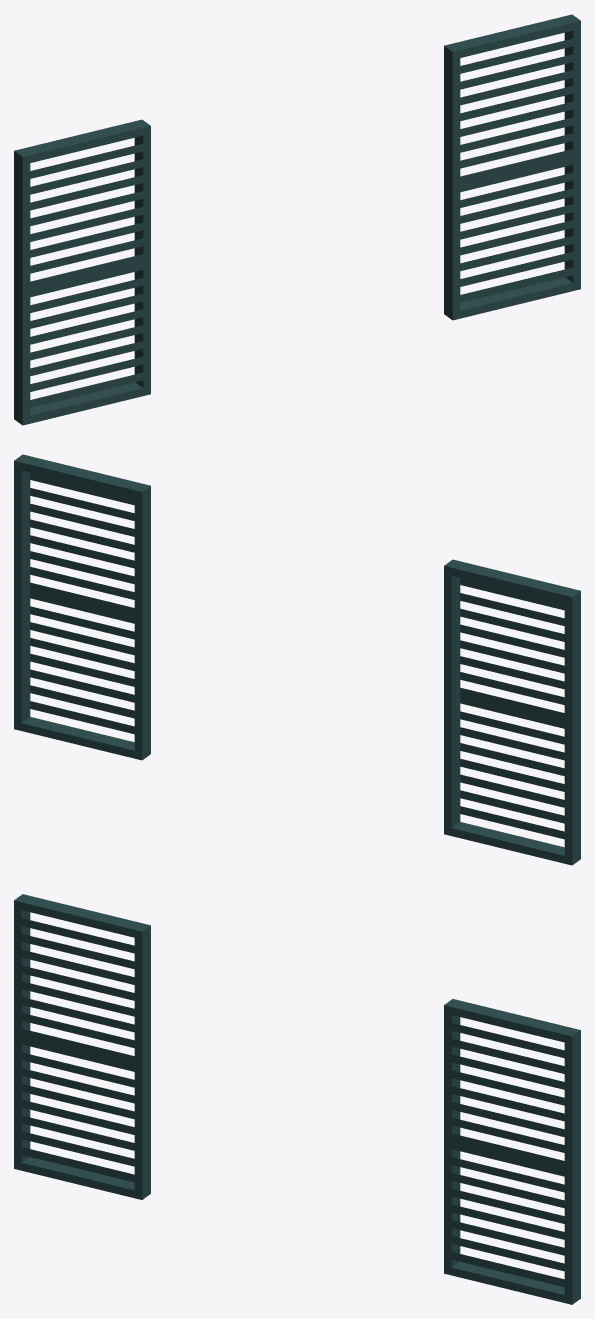
The model's file is window_shutters_1.fbx.
3 views of the same model, one above another, from view 1: azimuth 30°, elevation 25°; view 2: azimuth 150°, elevation 25°; view 3: azimuth 330°, elevation 25° (orthographic).
Visible parts, largest first — view 1: Mesh2_Component_3_2 Model, Mesh1_Component_3_1 Model; view 2: Mesh1_Component_3_1 Model, Mesh2_Component_3_2 Model; view 3: Mesh1_Component_3_1 Model, Mesh2_Component_3_2 Model.
Boxes of the visible parts, x1,y1,x2,y2 form: Mesh2_Component_3_2 Model: (14,119,150,425); Mesh1_Component_3_1 Model: (444,14,580,320); Mesh1_Component_3_1 Model: (14,454,150,760); Mesh2_Component_3_2 Model: (444,559,580,865); Mesh1_Component_3_1 Model: (444,999,580,1304); Mesh2_Component_3_2 Model: (14,894,150,1199).
Bounding box in the file's own units: 0.74 × 0.3402 × 0.02.
